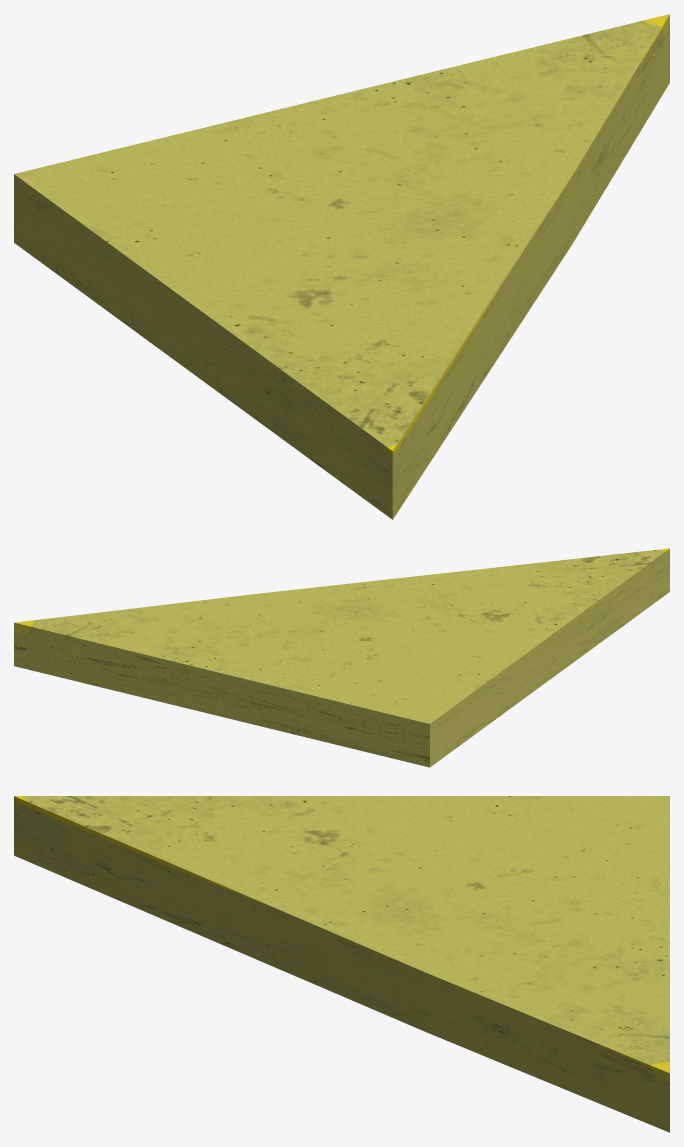
File: TriangularGroundTextures.fbx
3 renders of one model, top to bottom at view 1: azimuth 30°, elevation 25°; view 2: azimuth 150°, elevation 25°; view 3: azimuth 270°, elevation 25°, orthographic. The views are drawn at different scales.
Visible parts, largest first — view 1: pCube3; view 2: pCube3; view 3: pCube3.
Boxes of the visible parts, x1=… form: pCube3: x1=14, y1=14, x2=669, y2=519; pCube3: x1=14, y1=548, x2=669, y2=767; pCube3: x1=14, y1=796, x2=669, y2=1132.
Bounding box in the file's own units: 2.5 × 0.25 × 2.5.
Materials: 1 (1 with a texture image).
